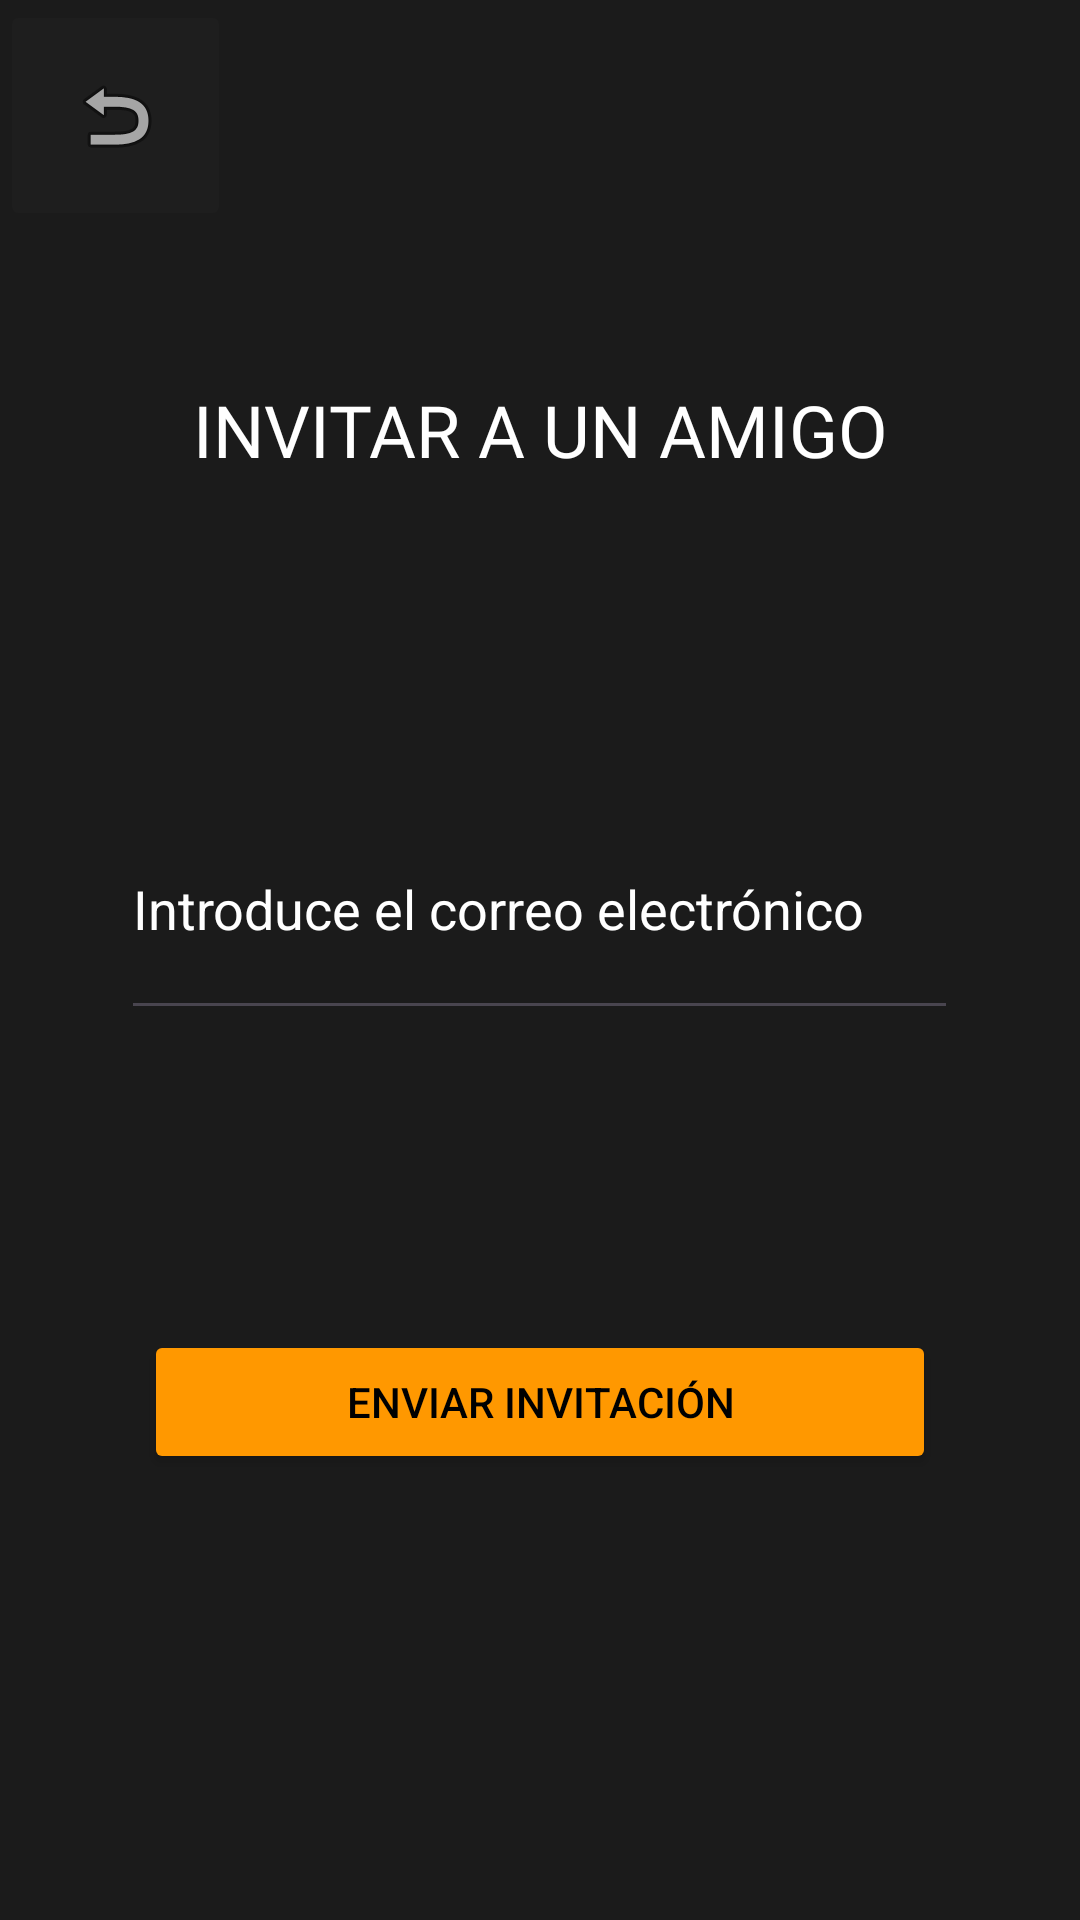

Screen size 1080×1920. Icon name, then its center in pixels as (x=x, y=y):
Volver: (x=117, y=116)
